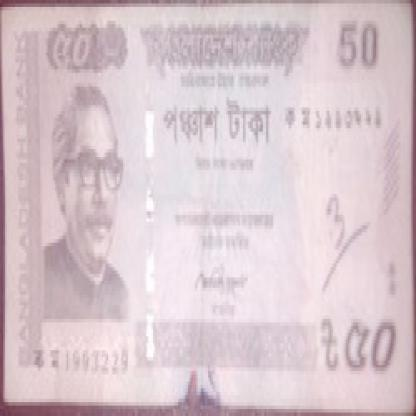Fifty taka: (338, 316, 402, 388), (48, 24, 110, 94)
